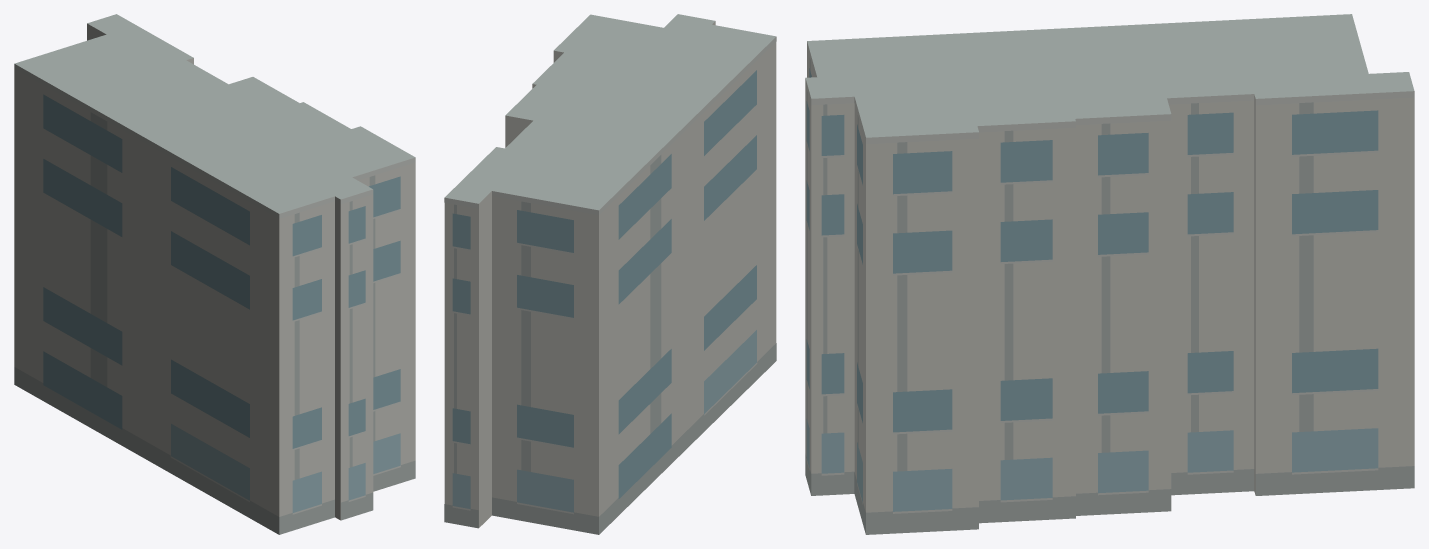
The model's file is survey-upis-32926380.glb.
3 renders of one model, left to right at view 1: azimuth 30°, elevation 25°; view 2: azimuth 150°, elevation 25°; view 3: azimuth 270°, elevation 25°, orthographic. The views are drawn at different scales.
Visible parts, largest first — view 1: survey-upis-32926380.tmp; view 2: survey-upis-32926380.tmp; view 3: survey-upis-32926380.tmp.
Part boxes in pixels (x1,y1,x2,y2): survey-upis-32926380.tmp: (14,14,415,534); survey-upis-32926380.tmp: (444,14,776,534); survey-upis-32926380.tmp: (805,14,1414,534).
Bounding box in the file's own units: 10.2 × 15.25 × 21.21.
